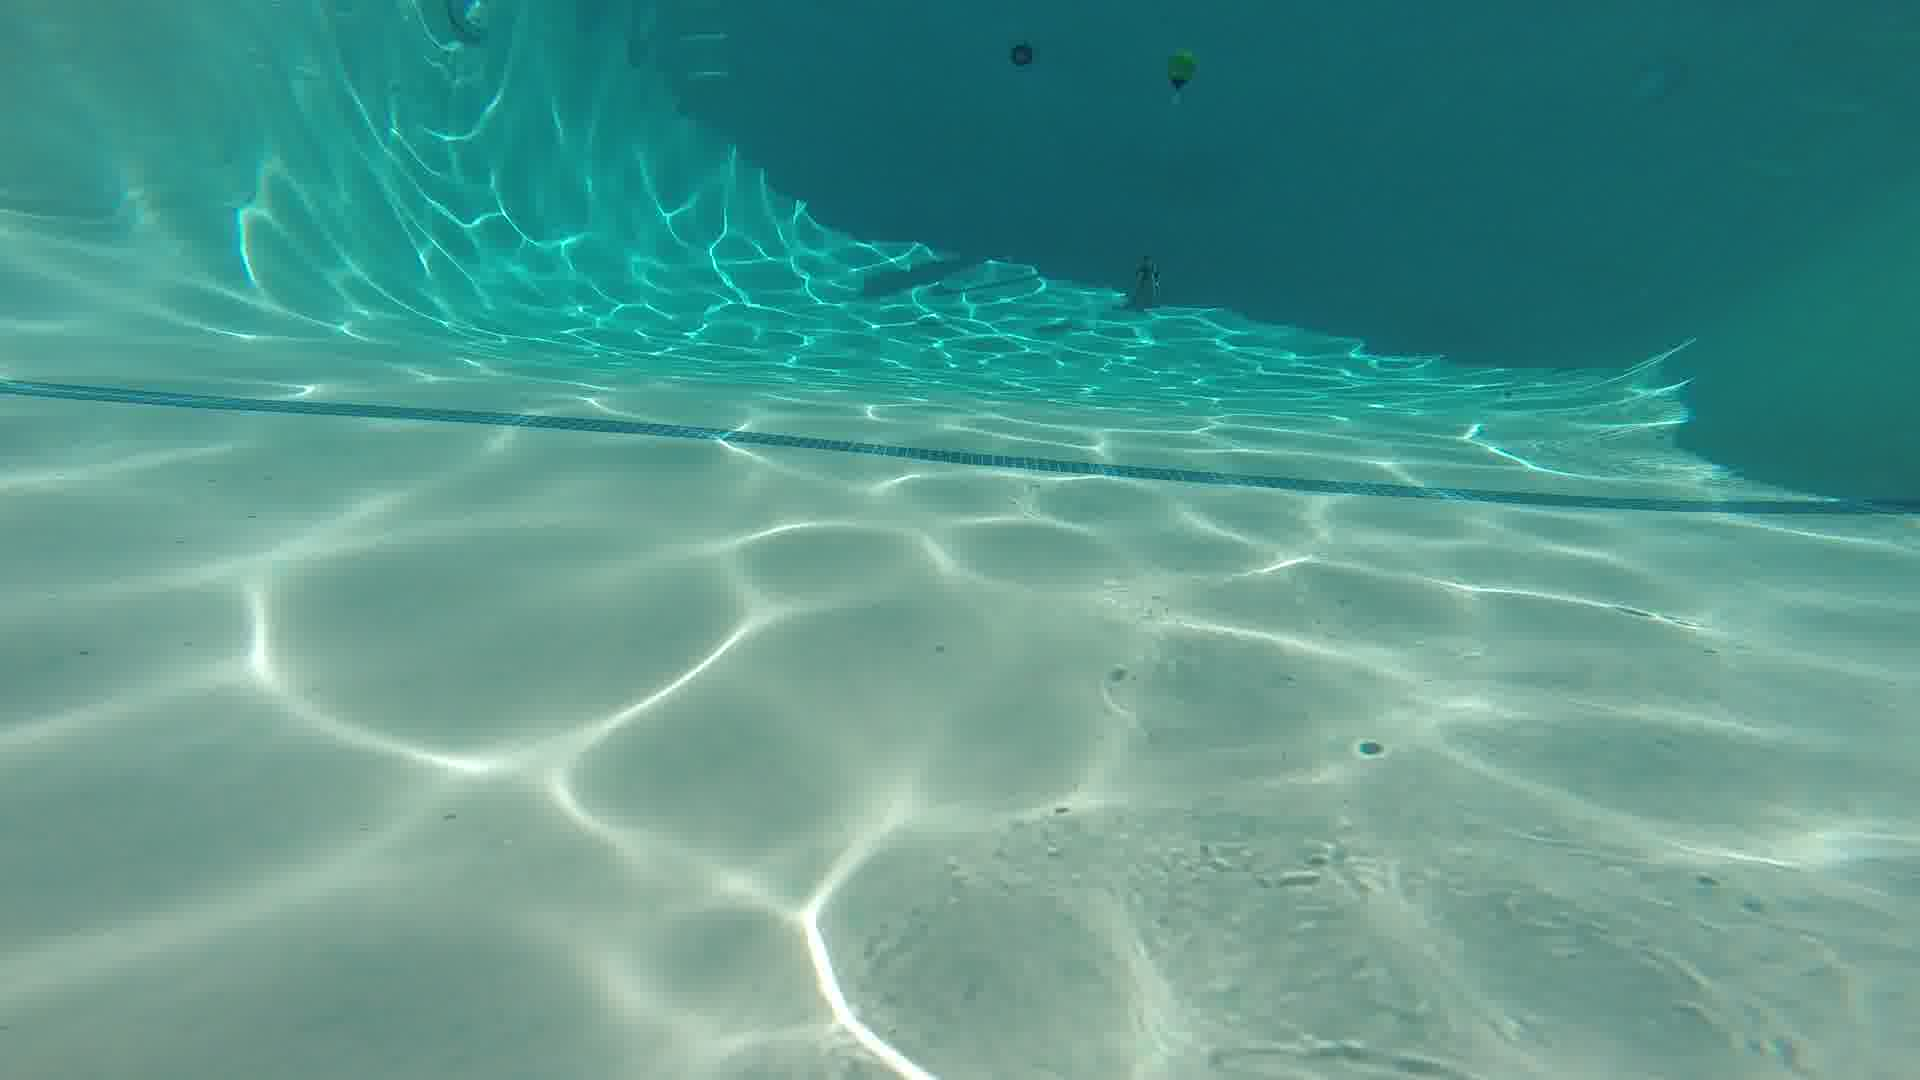yellow_buoy: (1164, 51, 1196, 96)
